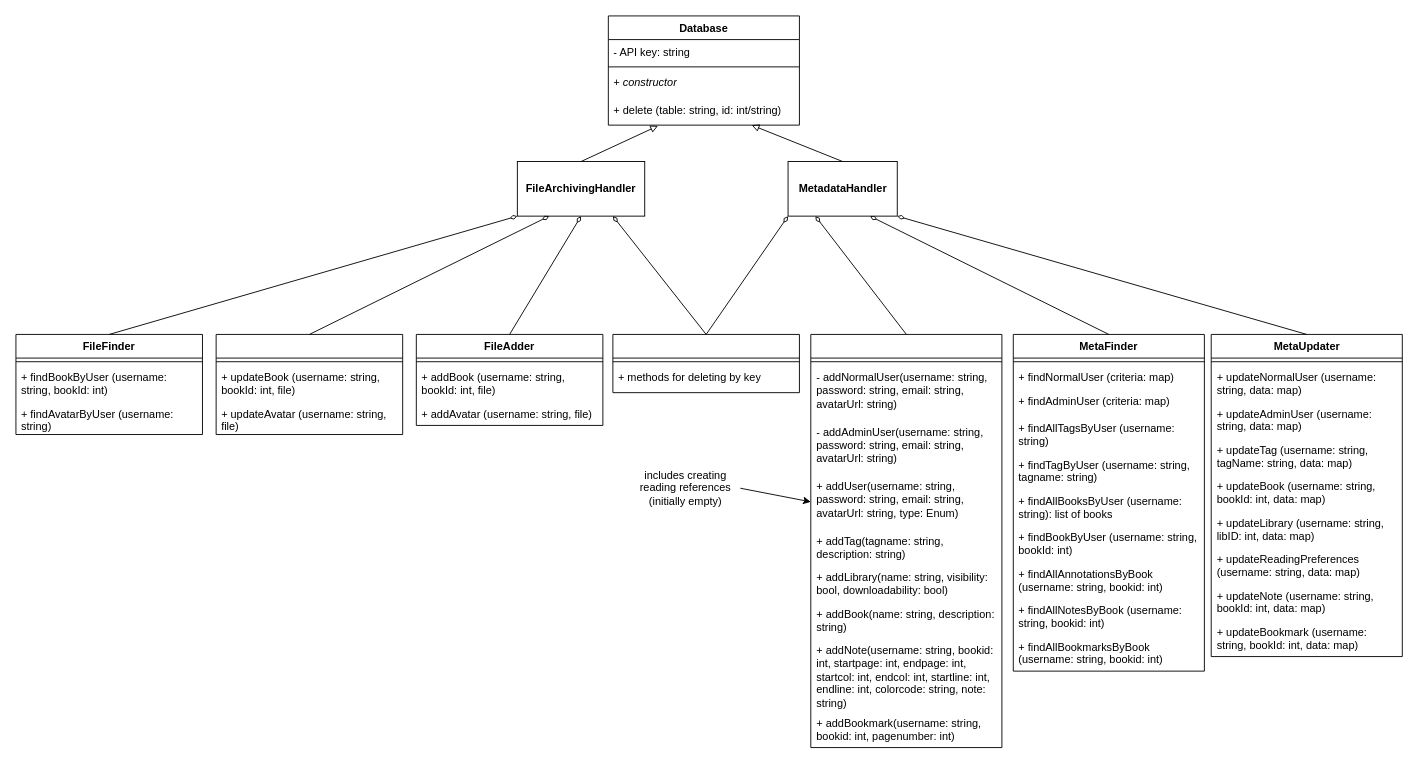
Some shapes in this 1419 by 766 pixel diagram are drawn without their labels. Here are the shapes that lost their labels. From the top down, the box of each, then its label:
(612, 334, 799, 393): Deleter
(215, 334, 403, 435): FileUpdater
(810, 334, 1002, 748): MetaAdder
